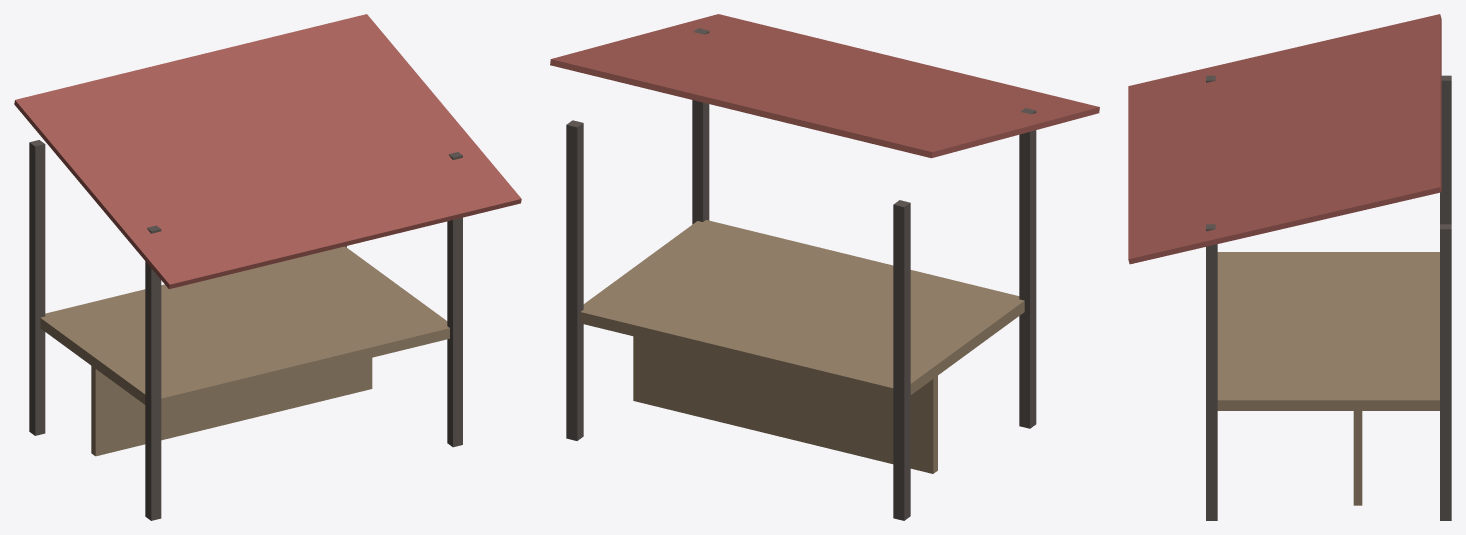
The model's file is v2_stall.glb.
The picture shows the model from 3 angles, left to right: view 1: azimuth 30°, elevation 25°; view 2: azimuth 150°, elevation 25°; view 3: azimuth 270°, elevation 25°; orthographic projection. The views are drawn at different scales.
Visible parts, largest first — view 1: v2_stall; view 2: v2_stall; view 3: v2_stall.
Boxes of the visible parts, x1,y1,x2,y2 form: v2_stall: (14, 14, 521, 520); v2_stall: (550, 14, 1099, 520); v2_stall: (1128, 14, 1451, 520).
Size of the model in its own units: 2.8 by 2.59 by 2.21.
